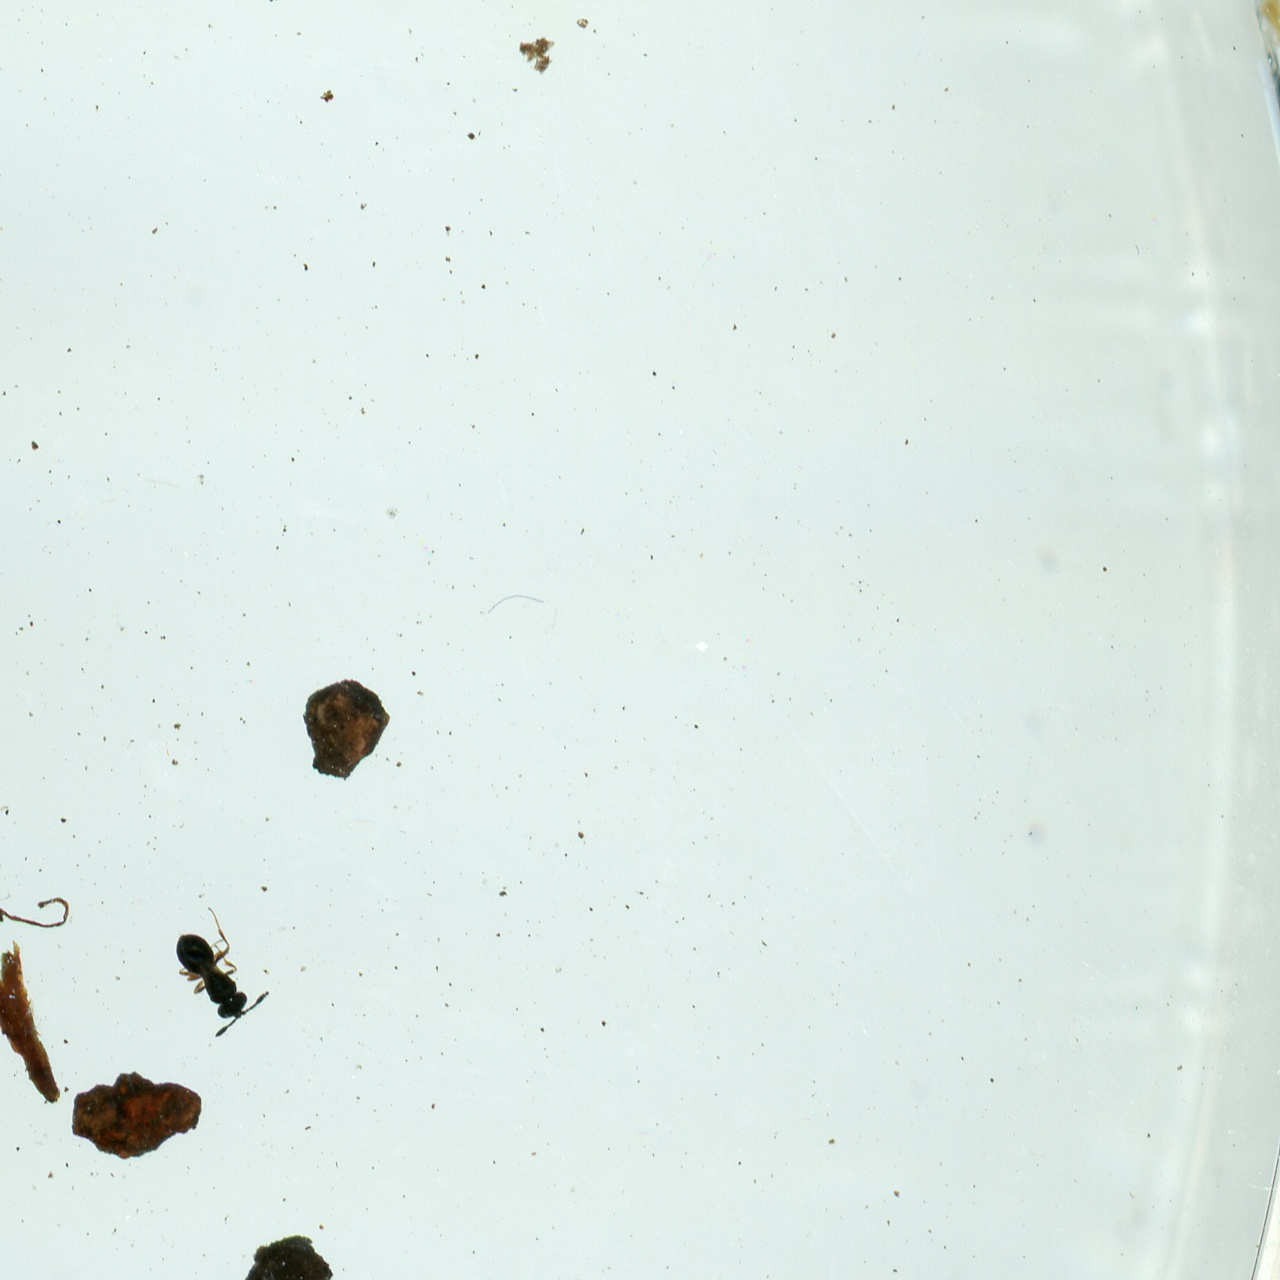arthropod: (138, 888, 298, 1056)
